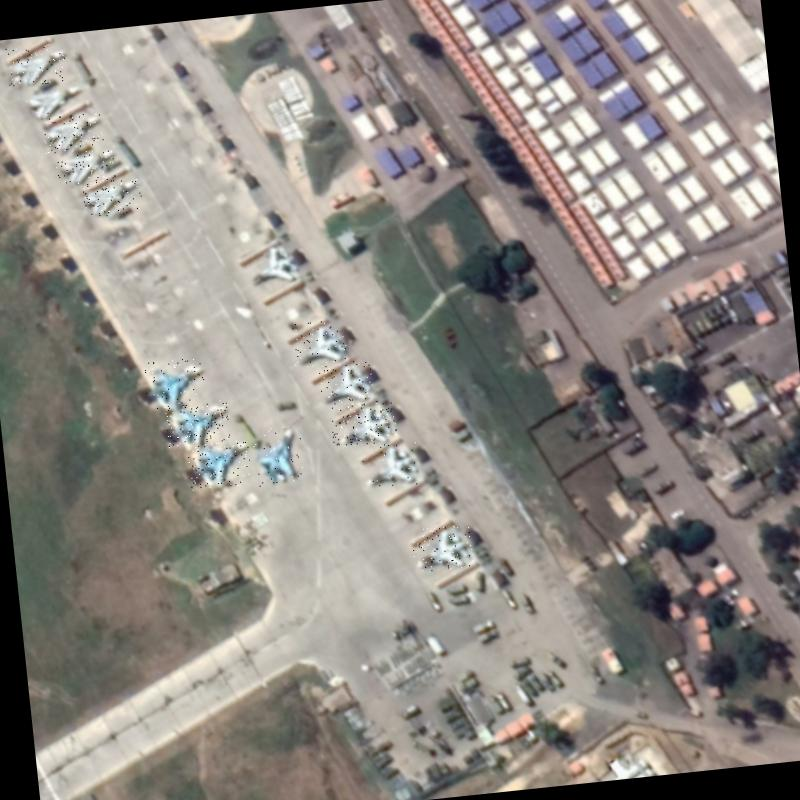A1: (290, 318, 348, 368), (317, 359, 374, 407), (245, 242, 300, 287)
A19: (142, 356, 206, 411), (186, 438, 252, 490), (251, 423, 305, 486), (164, 400, 232, 449), (329, 399, 397, 447), (359, 440, 421, 490), (410, 524, 474, 572)
A20: (5, 42, 67, 87), (53, 145, 118, 186), (42, 112, 104, 154), (81, 177, 143, 219), (24, 82, 86, 119)
